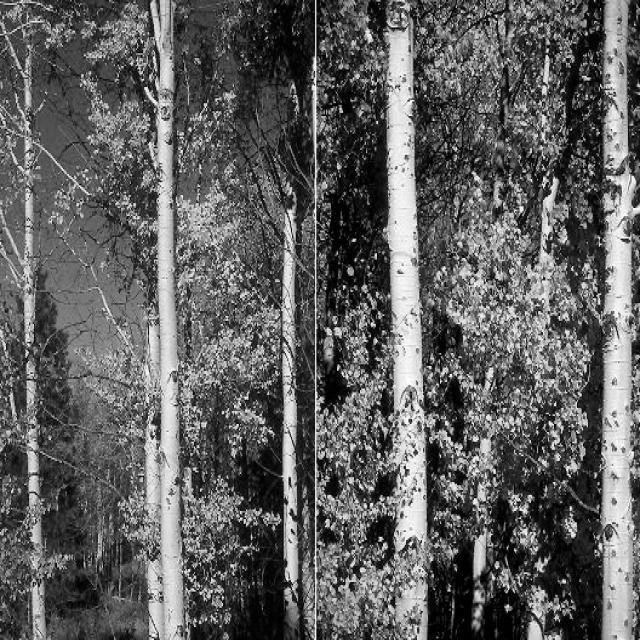Populus tremuloides: (311, 3, 470, 640), (82, 8, 232, 640), (520, 5, 639, 640), (0, 0, 81, 634)
